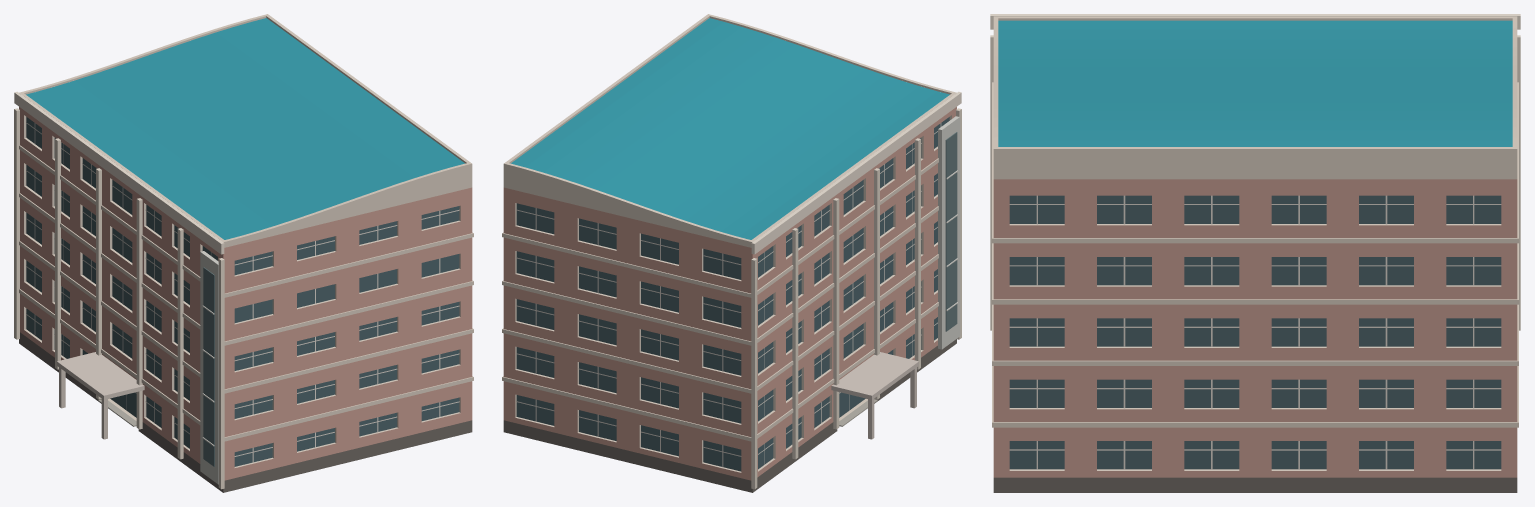
The picture shows the model from 3 angles, left to right: view 1: azimuth 30°, elevation 25°; view 2: azimuth 150°, elevation 25°; view 3: azimuth 270°, elevation 25°; orthographic projection. The views are drawn at different scales.
Parts seen in each view (by area): view 1: wing4__wall-plaster, wing4__roof, wing4__trim-concrete, wing4__glass, wing4__white-pier, wing4__base-stone, wing4__roof-sign-blank, wing4__canopy-concrete, wing4__frame, wing4__stair-end-glass, wing4__stair-end-frame; view 2: wing4__wall-plaster, wing4__roof, wing4__glass, wing4__trim-concrete, wing4__white-pier, wing4__base-stone, wing4__frame, wing4__roof-sign-blank, wing4__stair-end-frame, wing4__canopy-concrete, wing4__stair-end-glass; view 3: wing4__wall-plaster, wing4__roof, wing4__glass, wing4__trim-concrete, wing4__base-stone, wing4__frame, wing4__roof-sign-blank, wing4__white-pier.
Boxes of the visible parts, x1,y1,x2,y2 form: wing4__wall-plaster: (19,107,472,480); wing4__roof: (26,18,464,239); wing4__trim-concrete: (19,14,473,467); wing4__glass: (26,117,459,466); wing4__white-pier: (14,108,224,489); wing4__base-stone: (19,332,472,492); wing4__roof-sign-blank: (14,91,224,254); wing4__canopy-concrete: (57,352,144,439); wing4__frame: (26,122,459,462); wing4__stair-end-glass: (203,267,214,466); wing4__stair-end-frame: (200,251,218,484); wing4__wall-plaster: (503,107,956,480); wing4__roof: (511,18,949,239); wing4__glass: (516,117,949,471); wing4__trim-concrete: (502,14,956,472); wing4__white-pier: (751,108,961,489); wing4__base-stone: (503,339,956,492); wing4__frame: (516,123,941,467); wing4__roof-sign-blank: (751,91,961,254); wing4__stair-end-frame: (938,116,960,349); wing4__canopy-concrete: (831,352,918,439); wing4__stair-end-glass: (945,132,957,331); wing4__wall-plaster: (993,179,1517,477); wing4__roof: (998,20,1512,146); wing4__glass: (1009,195,1501,469); wing4__trim-concrete: (992,16,1518,470); wing4__base-stone: (993,477,1517,492); wing4__frame: (1009,195,1501,469); wing4__roof-sign-blank: (990,14,1520,29); wing4__white-pier: (990,35,1520,330).
Bounding box in the file's own units: 22.86 × 20.19 × 28.2.
